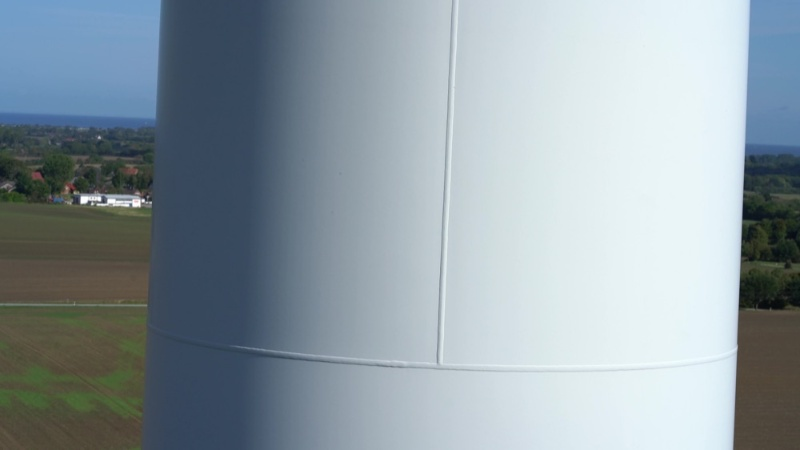weldseam: (142, 314, 740, 376), (432, 1, 464, 370)
